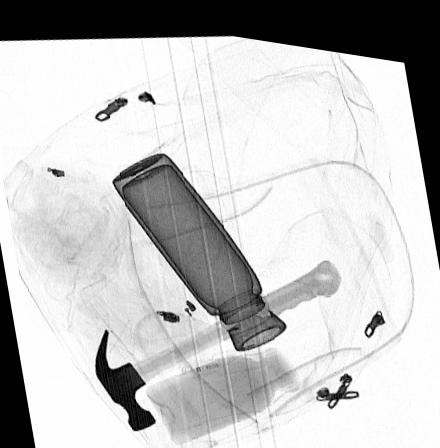Hammer: (94, 248, 342, 426)
